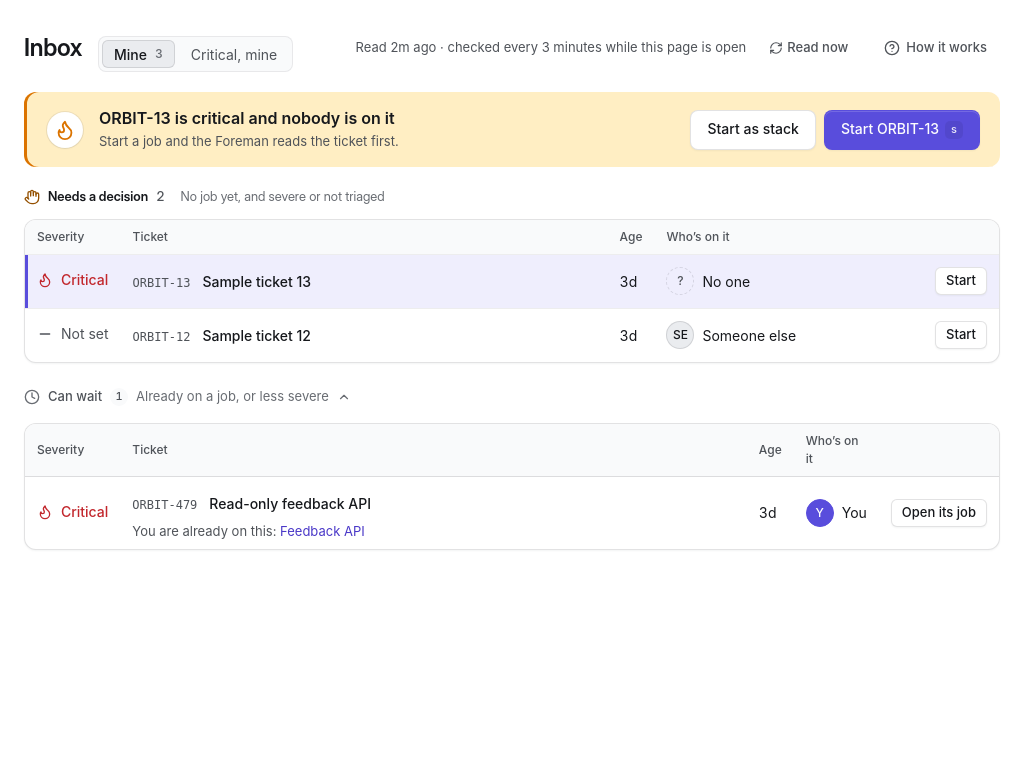
Scenario: Inbox › tabs: Mine, then your saved views from Orbit, each read when opened
What coordinates should you click on to do the following:
click the tab "Critical, mine"
I would click on:
 (234, 54)
Its box is [179,40,289,68].
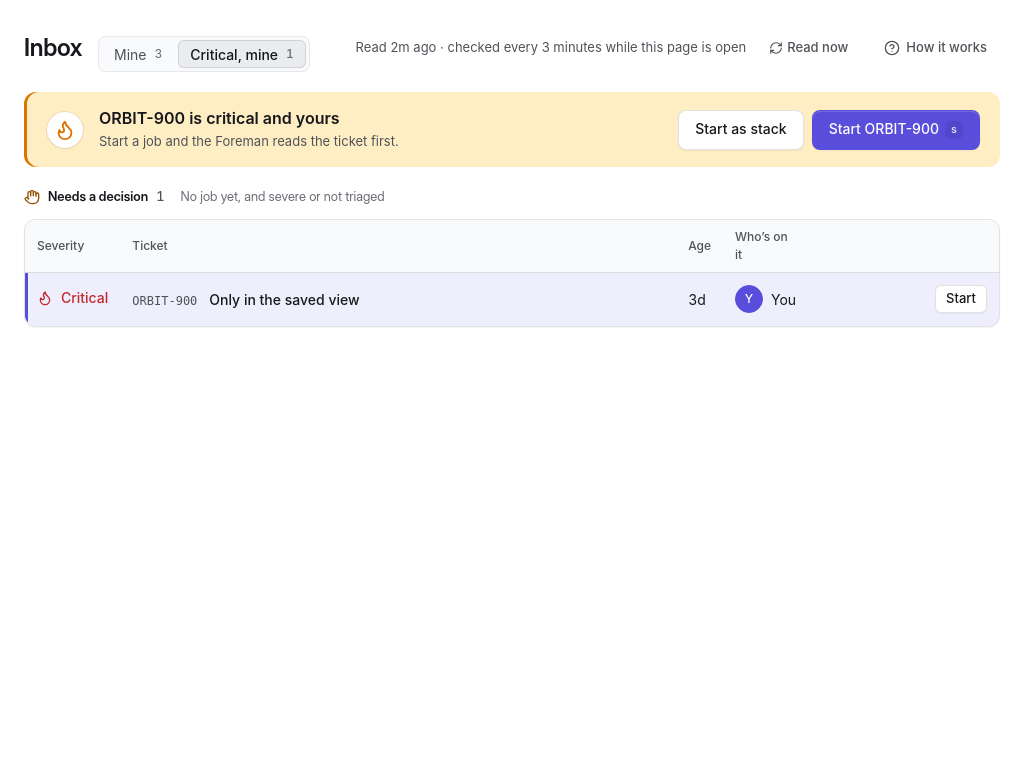
Check: the text "Only in the saved view" is shown, box [209,289,360,310]
